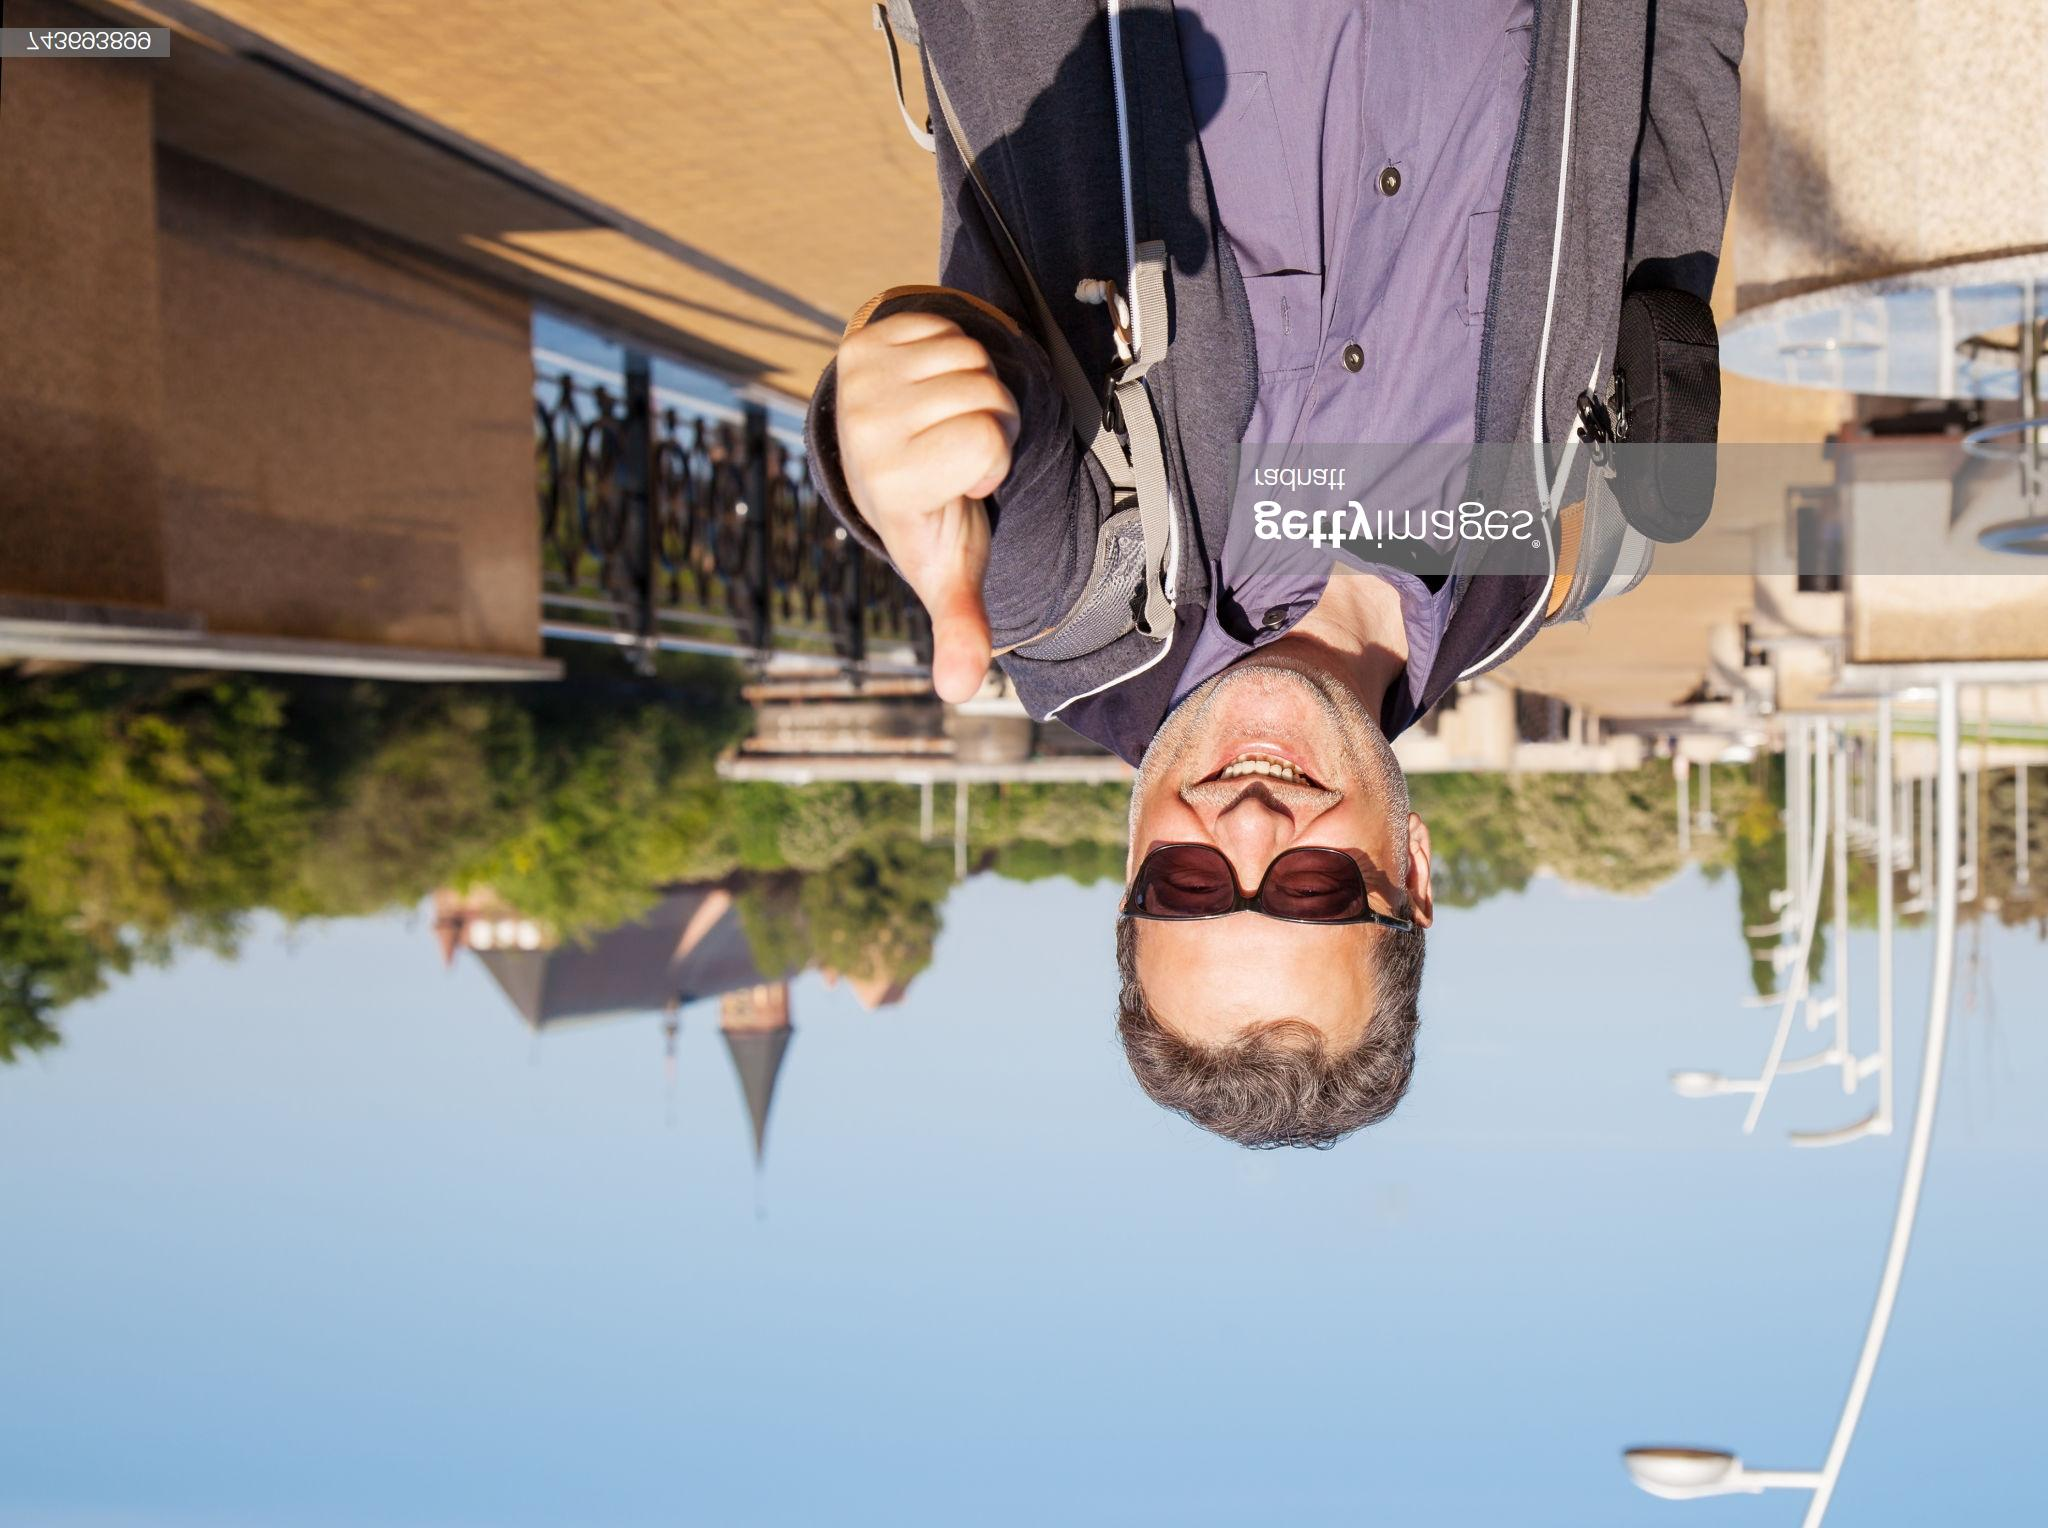thumbsdown: (835, 311, 1021, 706)
